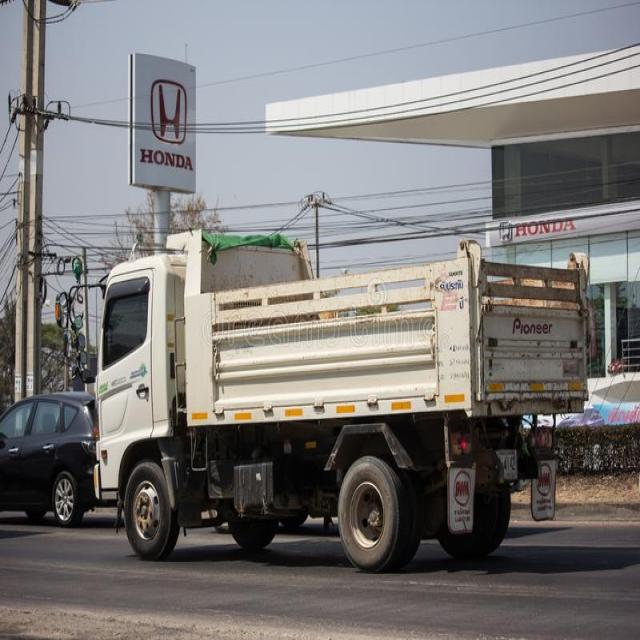dump_truck: (92, 224, 590, 576)
light_vehicle: (4, 386, 104, 530)
